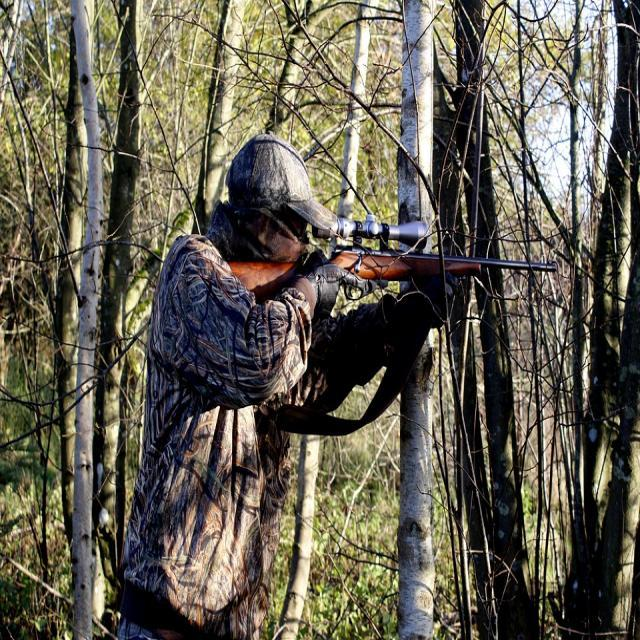rifle: (224, 195, 566, 315)
